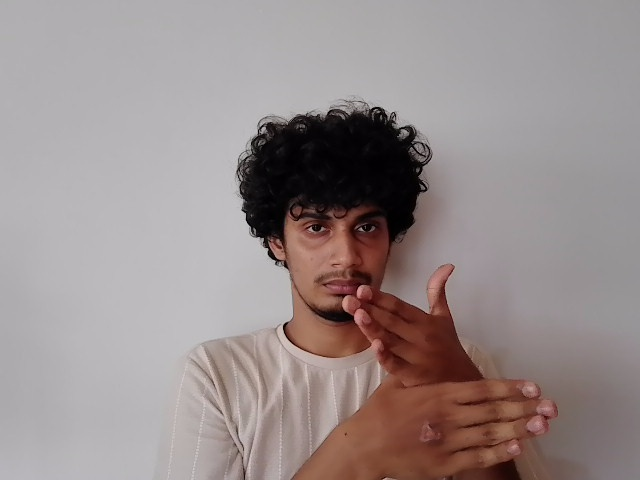busy: (340, 262, 561, 480)
